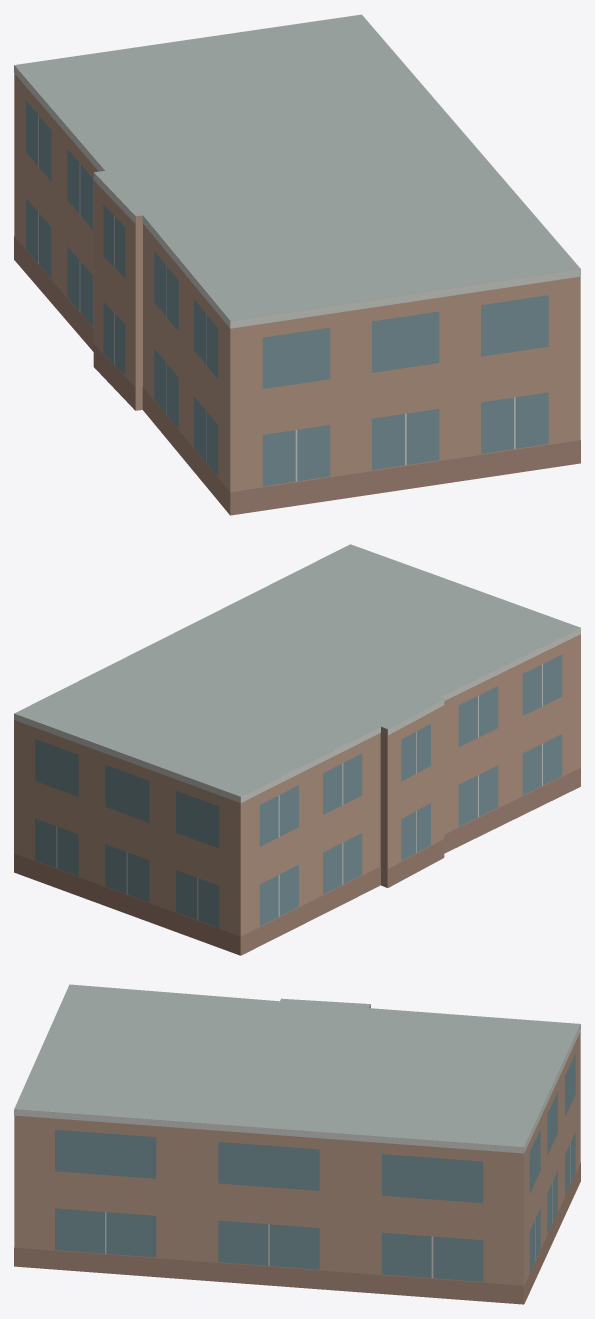
The model's file is survey-upis-32496823.glb.
3 views of the same model, one above another, from view 1: azimuth 30°, elevation 25°; view 2: azimuth 150°, elevation 25°; view 3: azimuth 270°, elevation 25° (orthographic). The views are drawn at different scales.
Parts seen in each view (by area): view 1: survey-upis-32496823.tmp; view 2: survey-upis-32496823.tmp; view 3: survey-upis-32496823.tmp.
Part boxes in pixels (x1=…): survey-upis-32496823.tmp: x1=14, y1=14, x2=580, y2=515; survey-upis-32496823.tmp: x1=14, y1=544, x2=580, y2=955; survey-upis-32496823.tmp: x1=14, y1=984, x2=580, y2=1304.
Size of the model in its own units: 13.55 by 6.1 by 19.93.
